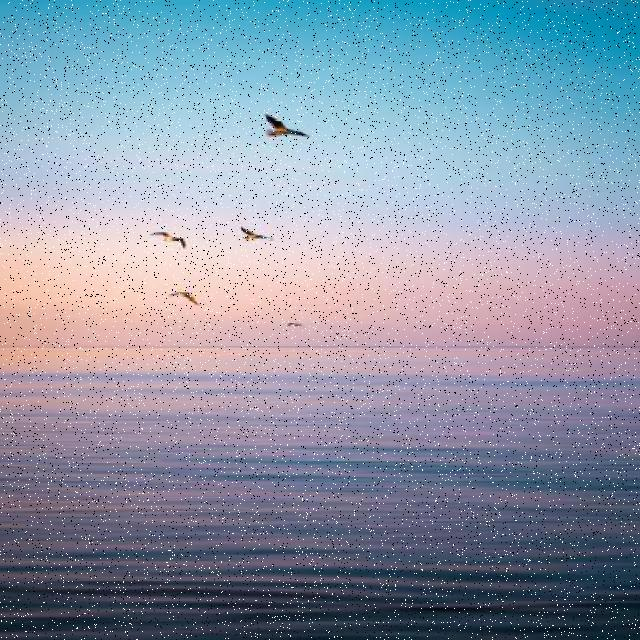bird: (264, 112, 312, 140), (149, 232, 188, 248), (241, 226, 276, 242), (169, 291, 200, 307), (286, 322, 306, 328)
